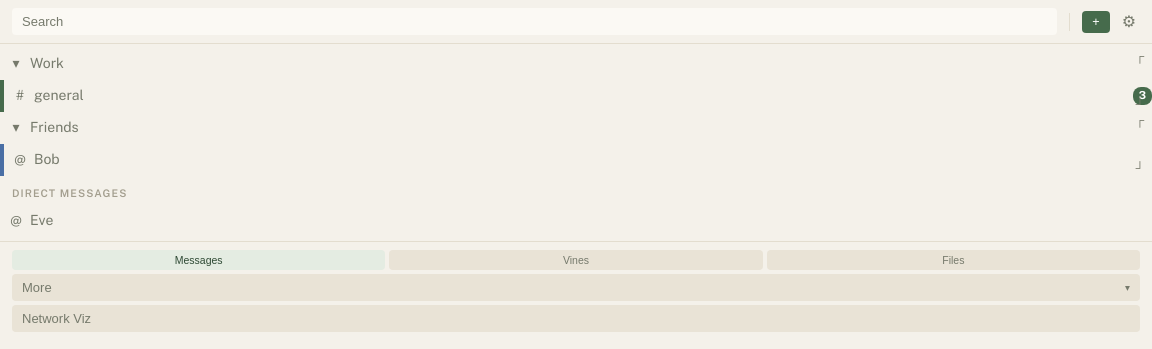
Test case: NavPanel › More menu (ZEB-555) › exposes the rehomed Help items when opened
Click the button with test id "more-menu-button". click: (37, 287)
box: [12,274,1140,301]
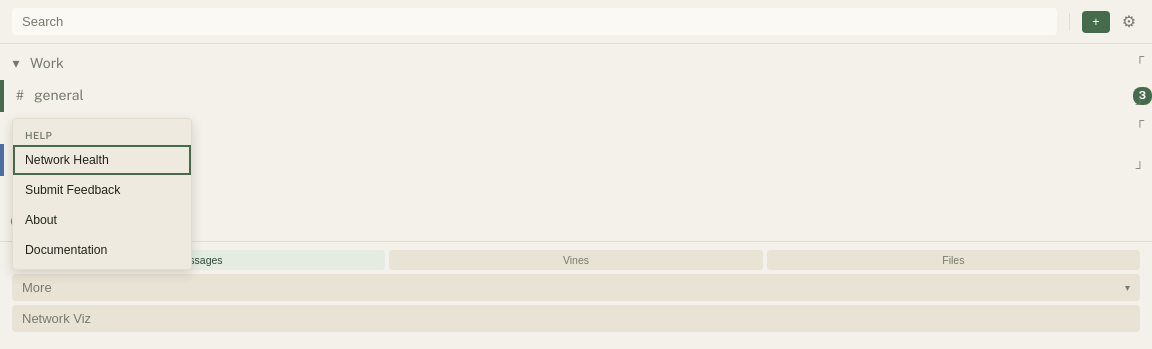
Now the menu item with test id "more-network-health" is shown, box [13,145,191,175]
Now the menu item with test id "more-feedback" is shown, box [13,175,191,205]
Now the menu item with test id "more-about" is shown, box [13,205,191,235]
